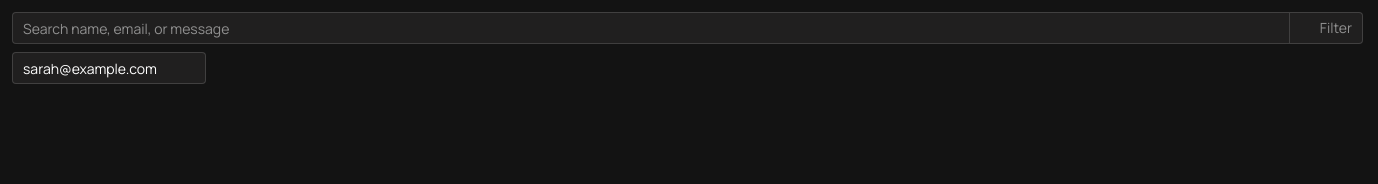
Test case: LeadInboxFilters › leaves an already shown filter out of the add menu
The image size is (1378, 184).
Click the button with aria-label "add filter": (1325, 28) [1289,13,1362,43]
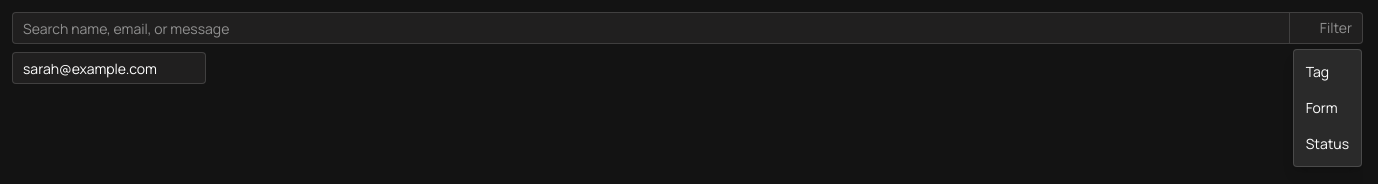
Result: the menu item "Tag" is shown at [1294,54,1361,90]
